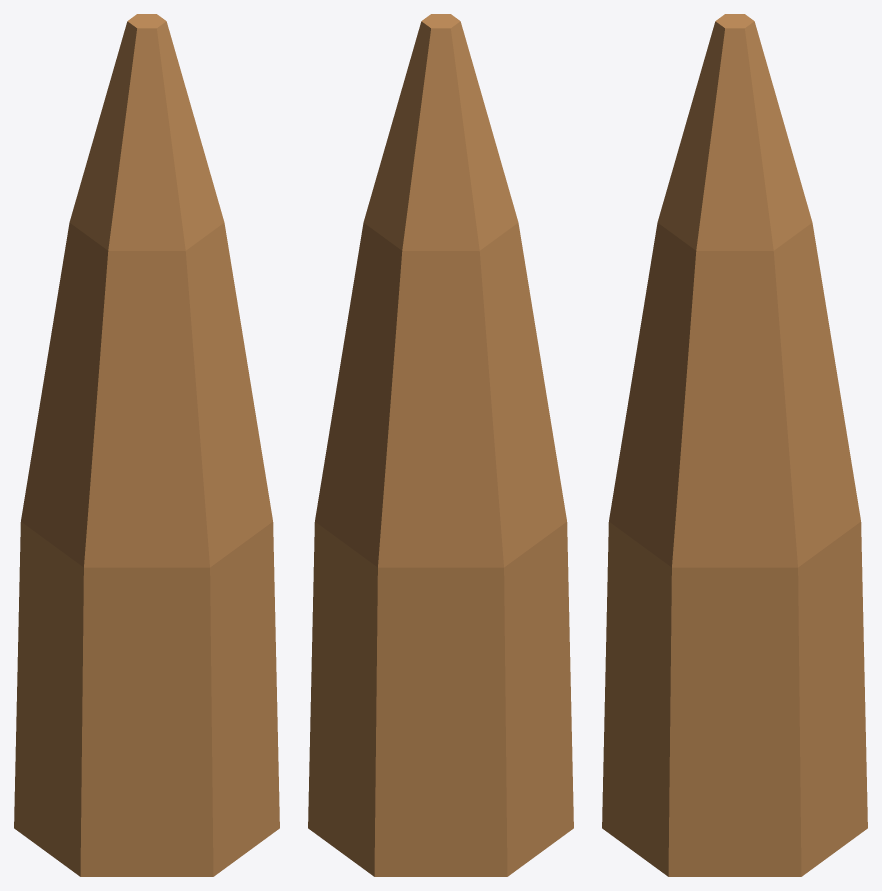
The model's file is 545x39bullet.glb.
3 views of the same model, side by side, from view 1: azimuth 30°, elevation 25°; view 2: azimuth 150°, elevation 25°; view 3: azimuth 270°, elevation 25° (orthographic).
Parts seen in each view (by area): view 1: 7.62x39mm_Bullet_Cylinder.009; view 2: 7.62x39mm_Bullet_Cylinder.009; view 3: 7.62x39mm_Bullet_Cylinder.009.
Boxes of the visible parts, box(x1,y1,x2,y2) form: 7.62x39mm_Bullet_Cylinder.009: box(14, 14, 279, 876); 7.62x39mm_Bullet_Cylinder.009: box(308, 14, 573, 876); 7.62x39mm_Bullet_Cylinder.009: box(602, 14, 867, 876).
Size of the model in its own units: 0.0386 by 0.1493 by 0.0446.
